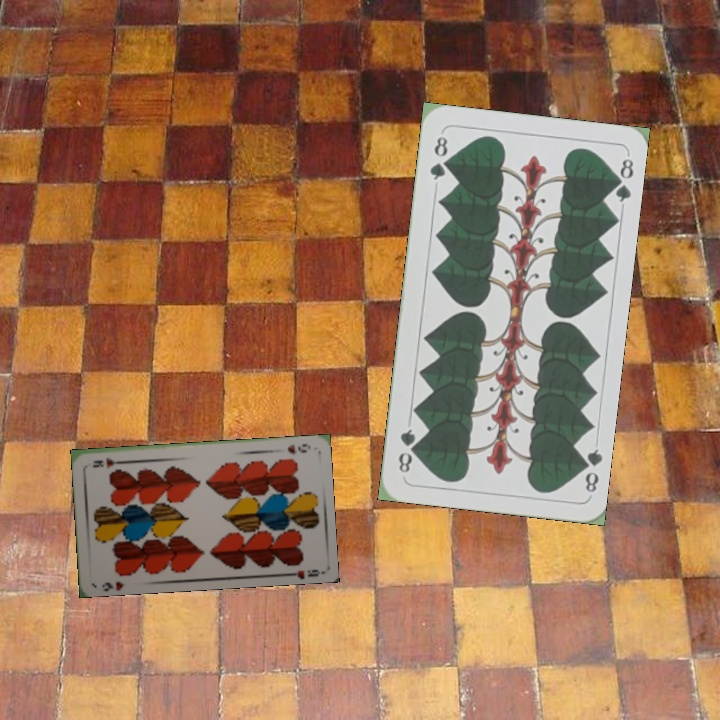G8: (574, 445, 604, 495), (425, 132, 451, 183)
H9: (284, 440, 313, 456), (98, 577, 126, 592)
